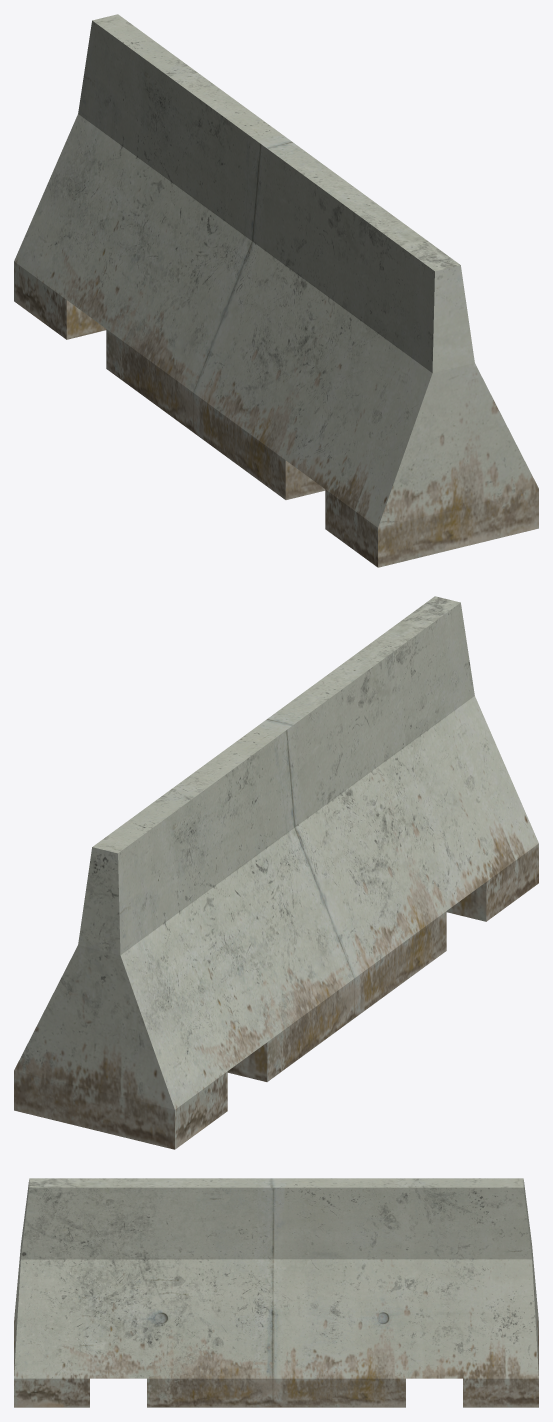
Rendered from concrete_road_divider__game-ready__pbr__4k.glb.
3 views of the same model, one above another, from view 1: azimuth 30°, elevation 25°; view 2: azimuth 150°, elevation 25°; view 3: azimuth 270°, elevation 25° (orthographic). The views are drawn at different scales.
Parts seen in each view (by area): view 1: road_divider; view 2: road_divider; view 3: road_divider.
Boxes of the visible parts, x1,y1,x2,y2 form: road_divider: [14, 14, 538, 567]; road_divider: [14, 596, 538, 1149]; road_divider: [14, 1178, 538, 1407].
Bounding box in the file's own units: 0.1977 × 0.3194 × 0.7746.
Materials: 1 (1 with a texture image).
